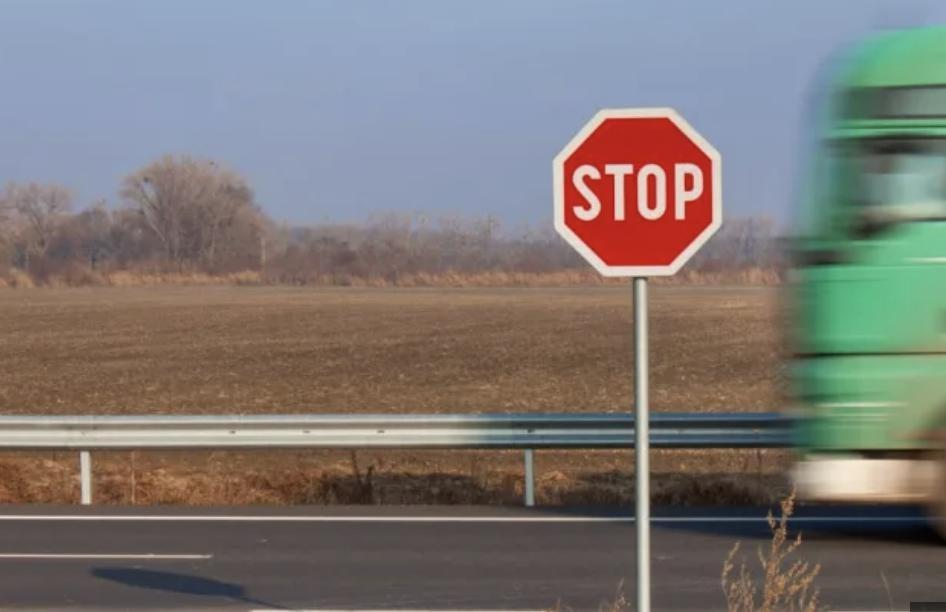Stop-Sign: (554, 109, 722, 275)
